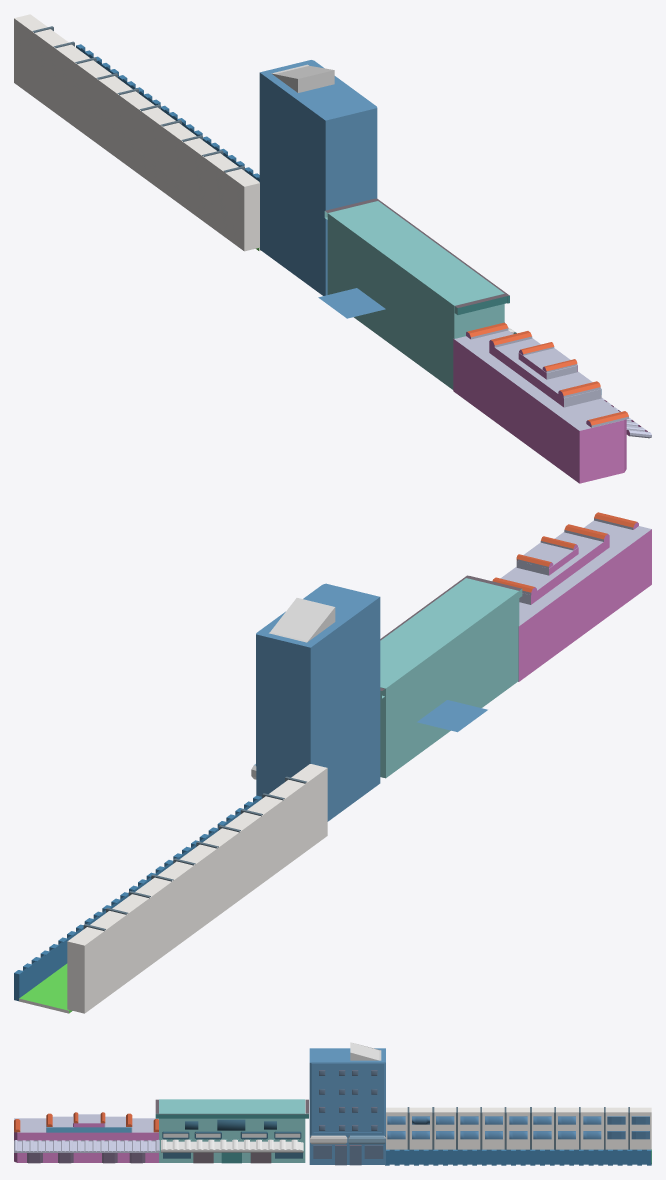
The model's file is buildings.fbx.
3 views of the same model, one above another, from view 1: azimuth 30°, elevation 25°; view 2: azimuth 150°, elevation 25°; view 3: azimuth 270°, elevation 25° (orthographic). The views are drawn at different scales.
Visible parts, largest first — view 1: Cube.001, Cube.002, Cube, Building one; view 2: Cube.002, Cube.001, Cube, Building one; view 3: Cube.002, Cube, Cube.001, Building one.
Boxes of the visible parts, bbox=[...] form: Cube.001: bbox=[259, 60, 385, 318]; Cube.002: bbox=[14, 14, 260, 251]; Cube: bbox=[324, 198, 516, 389]; Building one: bbox=[453, 322, 651, 483]; Cube.002: bbox=[14, 764, 327, 1013]; Cube.001: bbox=[251, 583, 487, 821]; Cube: bbox=[380, 575, 522, 778]; Building one: bbox=[492, 512, 651, 681]; Cube.002: bbox=[385, 1107, 651, 1165]; Cube: bbox=[155, 1099, 308, 1163]; Cube.001: bbox=[309, 1042, 385, 1165]; Building one: bbox=[14, 1112, 159, 1163].
Size of the model in its own units: 441 by 731 by 3798.
